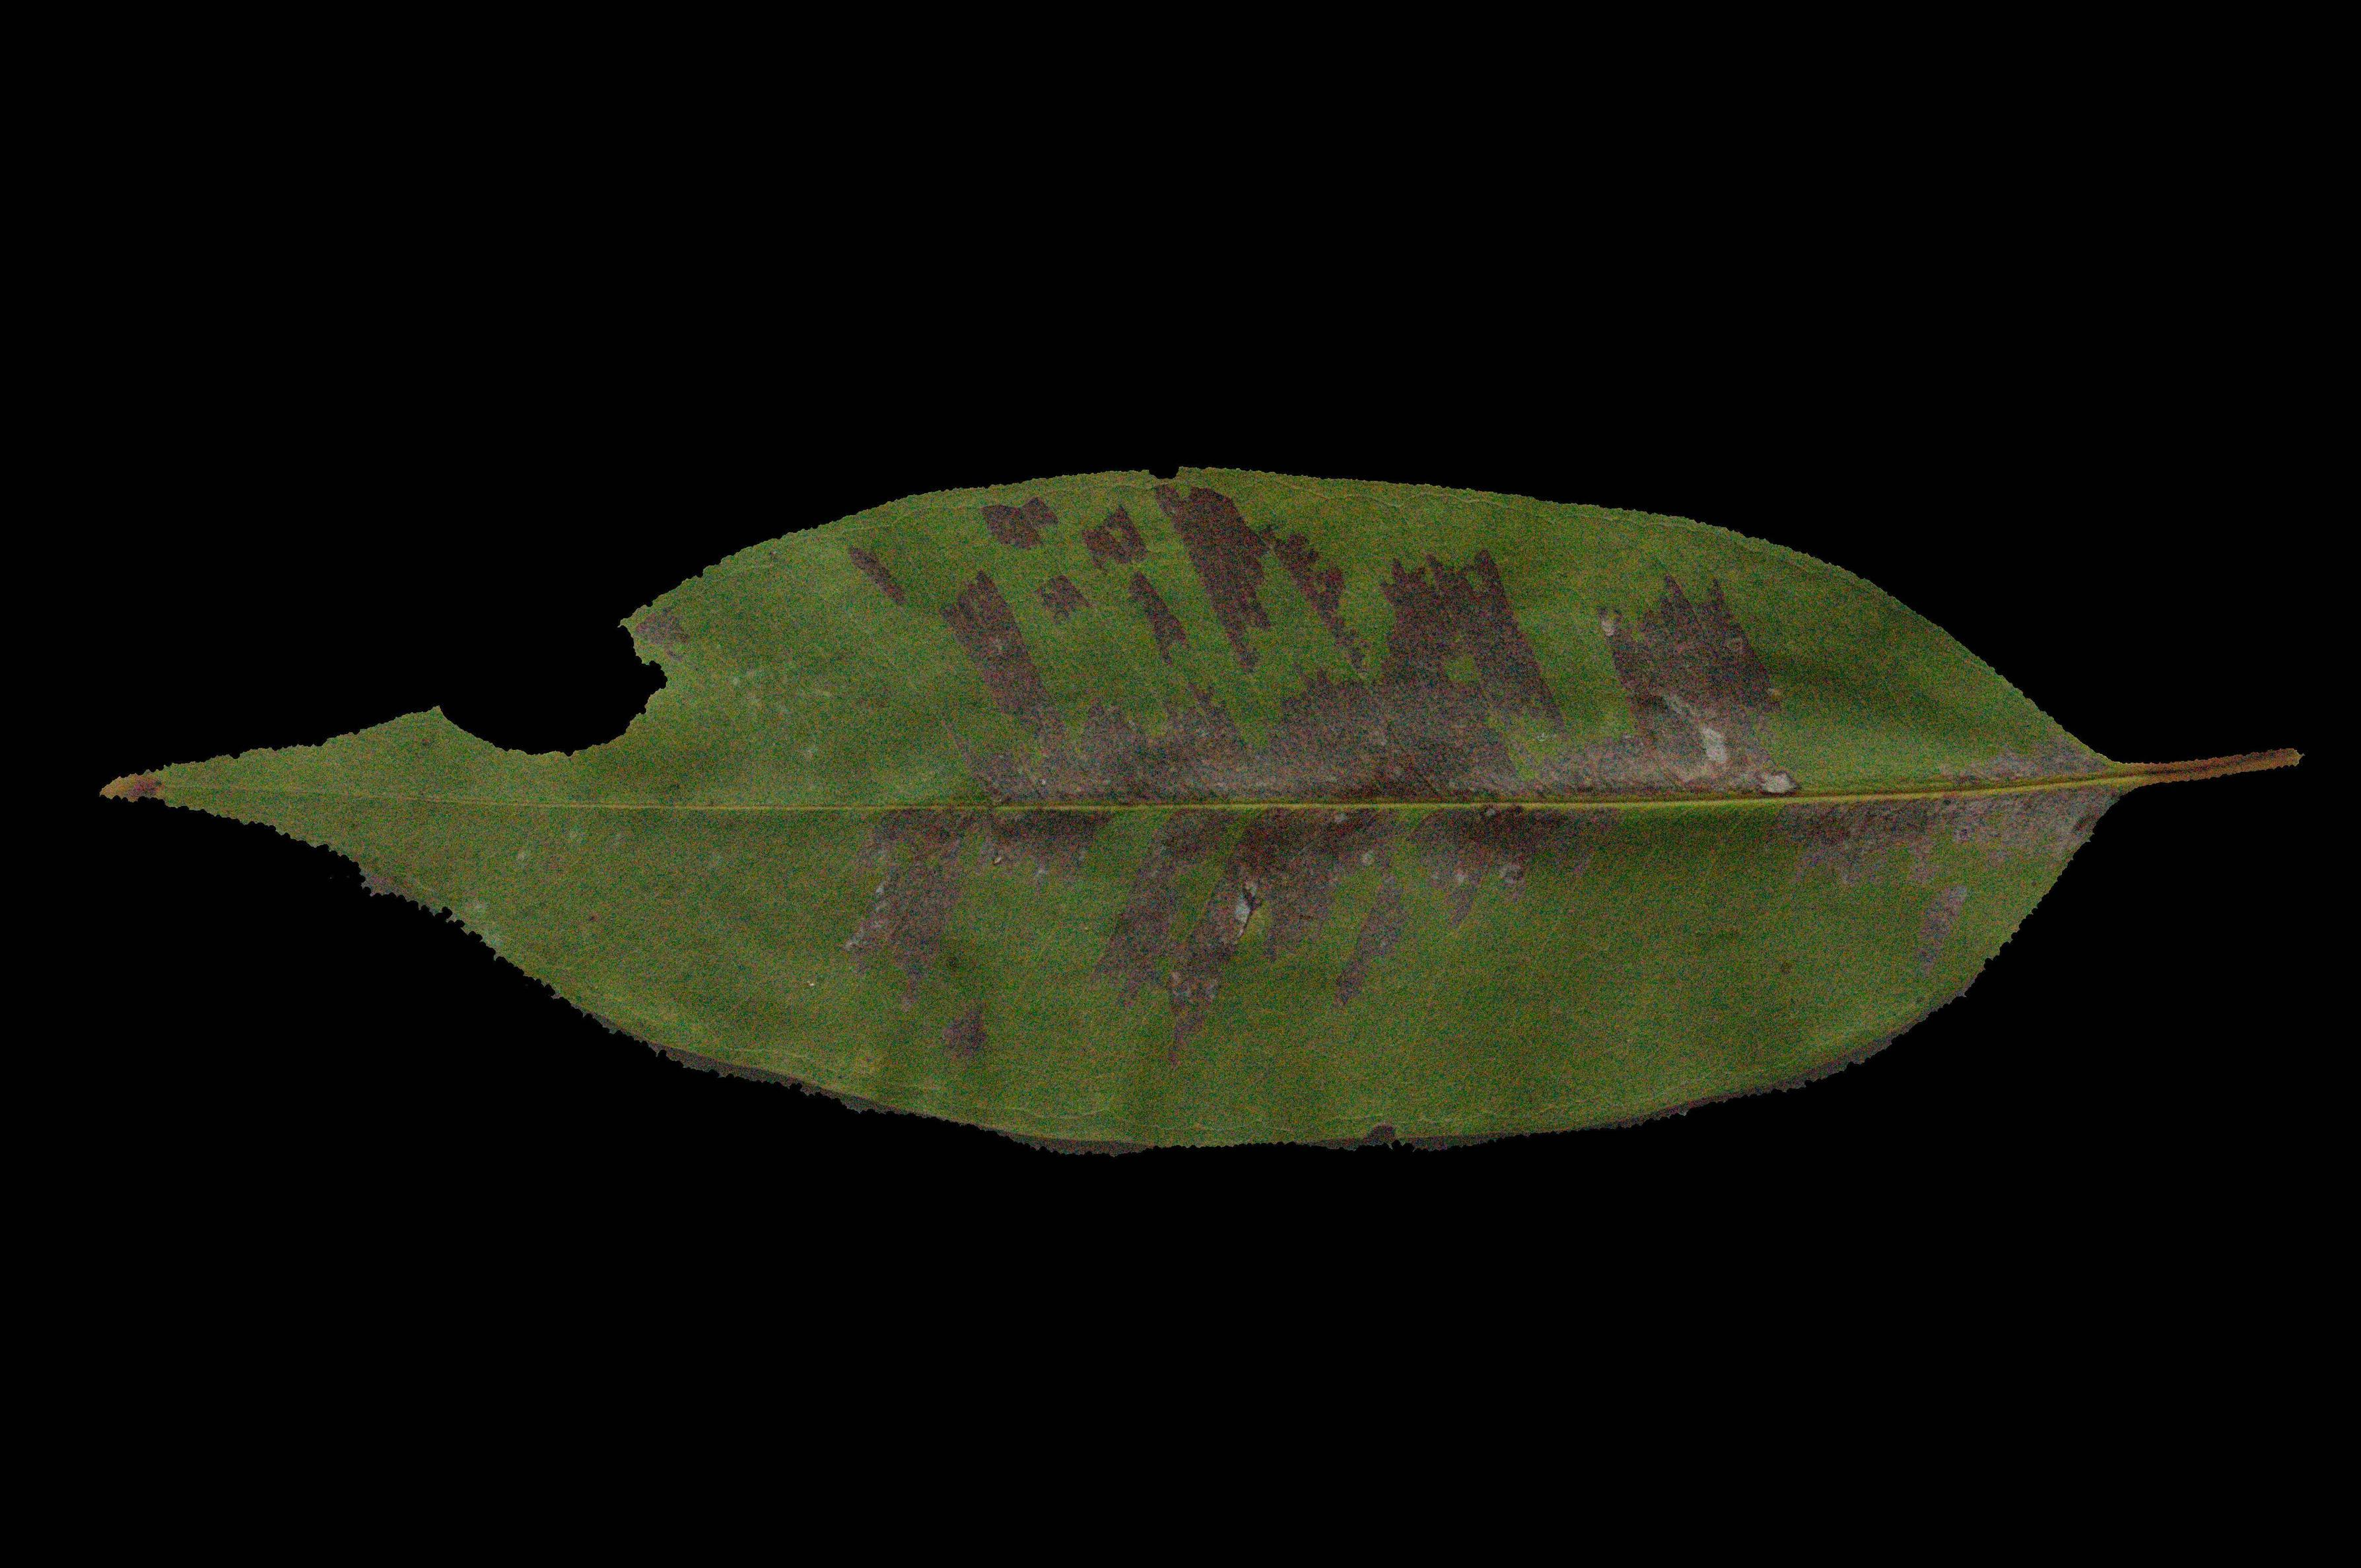late_blight: (845, 549, 1794, 1046), (1153, 485, 1367, 672), (1775, 784, 2119, 884), (1080, 507, 1187, 661), (847, 546, 914, 605), (982, 499, 1057, 549), (1034, 572, 1108, 623), (943, 1003, 987, 1060)
